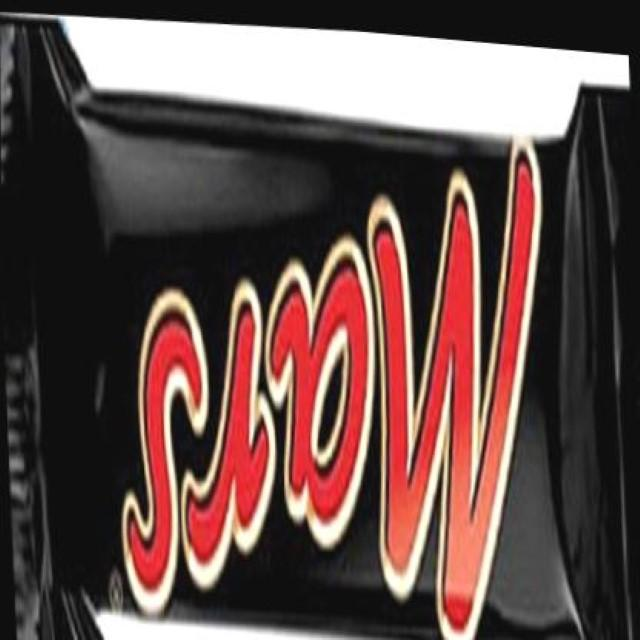mars_chocolate: (23, 48, 638, 640)
